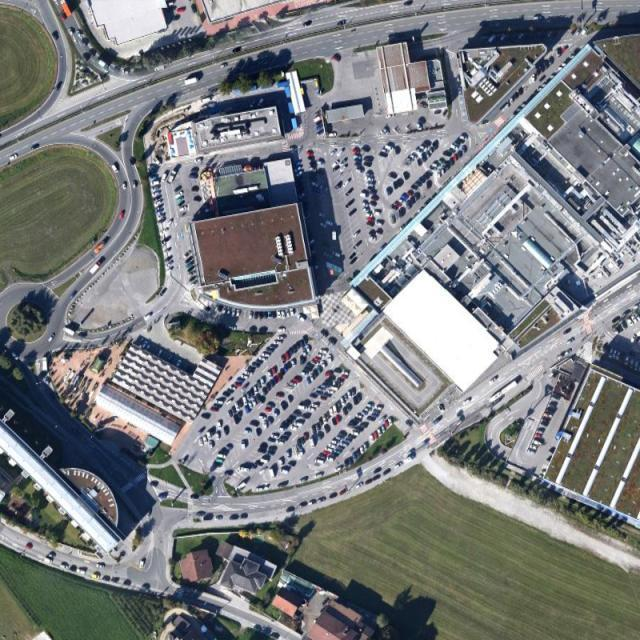vehicle: (90, 262, 102, 275), (96, 58, 110, 69), (94, 242, 106, 254), (294, 443, 303, 457), (167, 171, 177, 182), (63, 327, 75, 336), (185, 78, 198, 86), (143, 312, 153, 322), (173, 191, 183, 201), (234, 188, 249, 194), (335, 181, 344, 190), (354, 241, 363, 250), (346, 199, 355, 208), (187, 264, 197, 272), (112, 164, 120, 174), (393, 462, 403, 470), (403, 450, 413, 458), (370, 474, 381, 481), (298, 314, 306, 323), (184, 250, 193, 258), (178, 206, 187, 214), (433, 417, 442, 425), (9, 154, 18, 162), (47, 334, 55, 343), (186, 260, 194, 269), (346, 189, 354, 198), (275, 391, 285, 398), (309, 438, 316, 448), (44, 558, 54, 565), (162, 171, 168, 182), (234, 414, 240, 425), (155, 65, 166, 71), (242, 395, 248, 406), (314, 458, 325, 464), (331, 160, 339, 168), (438, 158, 446, 166), (382, 127, 390, 135), (390, 202, 398, 210), (307, 362, 315, 370), (166, 255, 174, 263), (630, 315, 638, 323), (490, 376, 498, 384), (31, 142, 39, 150), (356, 482, 364, 490), (339, 159, 347, 167), (363, 160, 372, 167), (314, 115, 323, 122), (329, 337, 336, 346), (328, 443, 337, 450), (365, 478, 374, 485), (382, 468, 391, 475), (198, 437, 205, 446), (281, 401, 288, 410), (563, 328, 572, 335), (334, 379, 344, 385), (340, 397, 346, 407), (255, 460, 265, 466), (252, 398, 258, 408), (563, 350, 573, 356), (56, 81, 62, 91), (302, 334, 308, 344), (238, 467, 250, 472), (356, 448, 362, 458), (374, 430, 379, 442), (76, 569, 86, 575), (630, 334, 636, 344), (234, 47, 242, 54), (304, 21, 312, 28), (334, 251, 342, 258), (295, 166, 303, 173), (321, 330, 329, 337), (350, 209, 358, 216), (258, 447, 266, 454), (250, 463, 258, 470), (162, 238, 170, 245), (174, 186, 182, 193), (289, 460, 297, 467), (566, 338, 574, 345), (463, 398, 471, 405), (70, 291, 78, 298), (191, 5, 198, 13), (278, 459, 285, 467), (256, 358, 264, 365), (374, 467, 382, 474), (407, 454, 414, 462), (177, 197, 185, 204), (330, 493, 338, 500), (357, 391, 362, 402), (545, 59, 550, 70), (326, 410, 332, 419), (353, 396, 359, 405), (322, 450, 331, 456), (326, 447, 335, 453), (353, 418, 362, 424), (549, 406, 558, 412), (262, 352, 271, 358), (244, 370, 253, 376), (317, 498, 326, 504), (380, 425, 386, 434), (323, 392, 332, 398), (248, 187, 258, 192), (397, 179, 402, 189), (337, 400, 342, 410), (312, 424, 317, 434), (334, 436, 344, 441), (353, 452, 358, 462), (378, 428, 383, 438), (69, 28, 74, 38), (366, 171, 373, 178), (444, 150, 451, 157), (337, 150, 344, 157), (330, 150, 337, 157), (354, 231, 361, 238), (351, 257, 358, 264), (158, 215, 165, 222), (167, 261, 174, 268), (438, 405, 445, 412), (534, 439, 541, 446), (139, 561, 146, 568), (179, 200, 186, 207), (374, 210, 382, 216), (354, 154, 362, 160), (354, 163, 362, 169), (381, 148, 389, 154), (326, 220, 334, 226), (338, 20, 346, 26), (342, 180, 350, 186), (416, 148, 424, 154), (282, 433, 290, 439), (302, 413, 310, 419), (324, 426, 330, 434), (318, 417, 324, 425), (244, 406, 250, 414), (262, 387, 268, 395), (186, 256, 194, 262), (152, 191, 160, 197), (154, 197, 162, 203), (318, 454, 326, 460), (338, 432, 346, 438), (349, 420, 357, 426), (355, 426, 363, 432), (546, 408, 554, 414), (547, 30, 553, 38), (500, 34, 506, 42), (489, 35, 495, 43), (622, 310, 630, 316), (530, 444, 538, 450), (53, 32, 59, 40), (82, 38, 88, 46), (252, 362, 260, 368), (422, 438, 430, 444), (123, 580, 131, 586), (632, 304, 640, 310), (266, 348, 274, 354), (215, 400, 223, 406), (276, 441, 285, 446), (297, 417, 306, 422), (352, 387, 357, 396), (316, 423, 321, 432), (251, 421, 260, 426), (268, 416, 273, 425), (346, 403, 351, 412), (336, 414, 341, 423), (332, 416, 337, 425), (341, 441, 350, 446), (249, 400, 254, 409), (540, 421, 549, 426), (528, 449, 537, 454), (119, 211, 124, 220), (242, 440, 247, 449), (280, 469, 289, 474), (329, 386, 338, 391), (299, 339, 304, 348), (270, 470, 275, 479), (308, 501, 317, 506), (278, 483, 287, 488), (349, 458, 354, 467), (364, 442, 369, 451), (92, 575, 101, 580), (230, 515, 239, 520), (150, 482, 159, 487), (270, 344, 279, 349), (96, 564, 105, 569), (158, 494, 167, 499), (151, 181, 160, 186), (370, 230, 376, 237), (450, 147, 456, 154), (325, 252, 332, 258), (297, 170, 303, 177), (309, 166, 316, 172), (350, 253, 357, 259), (410, 154, 417, 160), (395, 200, 402, 206), (315, 125, 322, 131), (322, 415, 328, 422), (286, 452, 292, 459), (261, 458, 268, 464), (313, 360, 320, 366), (265, 408, 272, 414), (260, 469, 267, 475), (155, 202, 162, 208), (222, 308, 228, 315), (618, 324, 624, 331), (90, 50, 97, 56), (228, 398, 234, 405), (316, 391, 323, 397), (161, 229, 168, 235), (340, 166, 347, 172), (375, 222, 383, 227), (366, 177, 374, 182), (362, 202, 370, 207), (362, 147, 370, 152), (451, 145, 459, 150), (333, 231, 337, 241), (434, 139, 438, 149), (161, 288, 166, 296), (442, 166, 446, 176), (418, 158, 423, 166), (411, 197, 416, 205), (194, 197, 202, 202), (340, 374, 348, 379), (271, 434, 279, 439), (279, 427, 287, 432), (294, 411, 302, 416), (344, 393, 349, 401), (321, 361, 326, 369), (259, 415, 267, 420), (267, 403, 275, 408), (257, 428, 262, 436), (286, 310, 291, 318), (281, 310, 286, 318), (237, 310, 242, 318), (375, 406, 383, 411), (374, 408, 379, 416), (332, 440, 340, 445), (462, 146, 467, 154), (457, 138, 465, 143), (459, 136, 467, 141), (545, 414, 553, 419), (550, 402, 558, 407), (558, 47, 562, 57), (628, 318, 633, 326), (614, 326, 619, 334), (612, 317, 620, 322), (534, 433, 542, 438), (277, 329, 285, 334), (219, 64, 227, 69), (178, 8, 186, 13), (287, 507, 295, 512), (234, 382, 242, 387), (299, 502, 307, 507), (258, 380, 262, 390), (250, 390, 255, 398), (370, 434, 374, 444), (235, 402, 240, 410), (229, 410, 234, 418), (225, 426, 230, 434), (317, 161, 325, 166), (294, 422, 304, 426), (216, 433, 221, 441), (361, 193, 369, 198), (386, 146, 394, 151), (368, 182, 374, 188), (357, 168, 363, 174), (407, 200, 411, 209), (400, 177, 404, 186), (271, 378, 277, 384), (317, 366, 321, 375), (274, 409, 278, 418), (226, 310, 232, 316), (372, 412, 378, 418), (364, 408, 373, 412), (344, 438, 353, 442), (576, 30, 582, 36), (571, 29, 577, 35), (519, 33, 525, 39), (621, 322, 627, 328), (46, 377, 50, 386), (250, 366, 256, 372), (334, 405, 338, 414), (272, 367, 276, 376), (282, 354, 286, 363), (386, 420, 390, 429), (389, 418, 393, 427), (26, 543, 32, 549), (203, 516, 212, 520), (113, 577, 119, 583), (217, 454, 226, 458), (298, 406, 307, 410), (367, 222, 374, 227), (370, 236, 377, 241), (417, 123, 422, 130), (363, 208, 370, 213), (195, 157, 202, 162), (426, 181, 431, 188), (426, 171, 433, 176), (422, 174, 429, 179), (404, 172, 409, 179), (157, 212, 164, 217), (279, 437, 286, 442), (319, 396, 326, 401), (267, 450, 274, 455), (310, 374, 315, 381), (357, 414, 364, 419), (367, 403, 374, 408), (331, 452, 338, 457), (361, 422, 368, 427), (557, 356, 564, 361), (581, 30, 588, 35), (635, 314, 640, 321), (242, 374, 249, 379), (340, 490, 347, 495), (62, 565, 69, 570), (212, 406, 219, 411), (202, 414, 209, 419), (70, 566, 77, 571), (387, 114, 395, 118), (430, 146, 434, 154), (190, 174, 198, 178), (405, 1, 413, 5), (350, 30, 358, 34), (426, 150, 430, 158), (423, 154, 427, 162), (432, 163, 440, 167), (438, 170, 442, 178), (447, 162, 451, 170), (419, 146, 427, 150), (454, 154, 458, 162), (414, 182, 422, 186), (394, 181, 398, 189), (390, 174, 398, 178), (348, 390, 352, 398), (307, 376, 311, 384), (314, 370, 318, 378), (328, 355, 332, 363), (263, 422, 267, 430), (290, 308, 294, 316), (278, 310, 282, 318), (532, 74, 536, 82), (538, 66, 542, 74), (550, 56, 554, 64), (238, 378, 246, 382), (261, 378, 265, 386), (286, 352, 290, 360), (294, 345, 298, 353), (297, 342, 301, 350), (314, 475, 322, 479), (345, 459, 349, 467), (360, 446, 364, 454), (207, 431, 211, 439), (230, 386, 238, 390), (260, 358, 268, 362), (244, 430, 252, 434), (320, 350, 328, 354), (254, 386, 258, 394), (278, 336, 286, 340), (153, 186, 161, 190), (204, 436, 208, 444), (372, 195, 378, 200), (193, 187, 199, 192), (312, 182, 318, 187), (320, 213, 326, 218), (333, 166, 339, 171), (454, 141, 460, 146), (420, 178, 426, 183), (412, 185, 418, 190), (167, 269, 173, 274), (540, 427, 546, 432), (458, 411, 464, 416), (519, 88, 524, 94), (542, 62, 545, 72), (104, 576, 110, 581), (366, 214, 373, 218), (367, 218, 374, 222), (371, 202, 378, 206), (329, 134, 336, 138), (192, 168, 199, 172), (309, 156, 316, 160), (426, 139, 430, 146), (387, 187, 391, 194), (310, 394, 317, 398), (321, 384, 328, 388), (330, 408, 334, 415), (270, 446, 277, 450), (266, 384, 270, 391), (268, 311, 272, 318), (255, 312, 259, 319), (368, 416, 375, 420), (343, 407, 347, 414), (341, 430, 348, 434), (361, 411, 368, 415), (123, 183, 127, 190), (122, 70, 129, 74), (246, 392, 250, 399), (306, 345, 310, 352), (301, 478, 308, 482), (218, 420, 222, 427), (241, 514, 248, 518), (216, 516, 223, 520), (636, 330, 640, 337), (294, 164, 303, 167), (325, 372, 334, 375), (321, 222, 326, 227), (402, 195, 407, 200), (281, 370, 286, 375), (290, 146, 298, 149), (308, 151, 314, 155), (316, 121, 322, 125), (458, 151, 462, 157), (306, 433, 309, 441), (278, 374, 282, 380), (292, 361, 296, 367), (318, 354, 326, 357), (259, 312, 262, 320), (232, 309, 235, 317), (328, 457, 334, 461), (336, 450, 342, 454), (338, 446, 344, 450), (510, 98, 514, 104), (537, 430, 543, 434), (290, 346, 293, 354), (256, 488, 264, 491), (335, 468, 343, 471), (197, 512, 205, 515), (210, 441, 213, 449), (318, 388, 326, 391), (303, 349, 306, 357), (370, 191, 377, 194), (310, 164, 317, 167), (452, 159, 455, 166), (417, 192, 420, 199), (273, 311, 276, 318), (250, 312, 253, 319), (515, 91, 518, 98), (78, 31, 81, 38), (269, 371, 272, 378), (226, 471, 233, 474), (542, 470, 547, 474), (356, 160, 362, 163), (264, 312, 267, 318), (378, 230, 382, 234), (274, 342, 282, 344), (134, 181, 136, 189), (638, 337, 640, 343), (53, 1, 58, 2)
